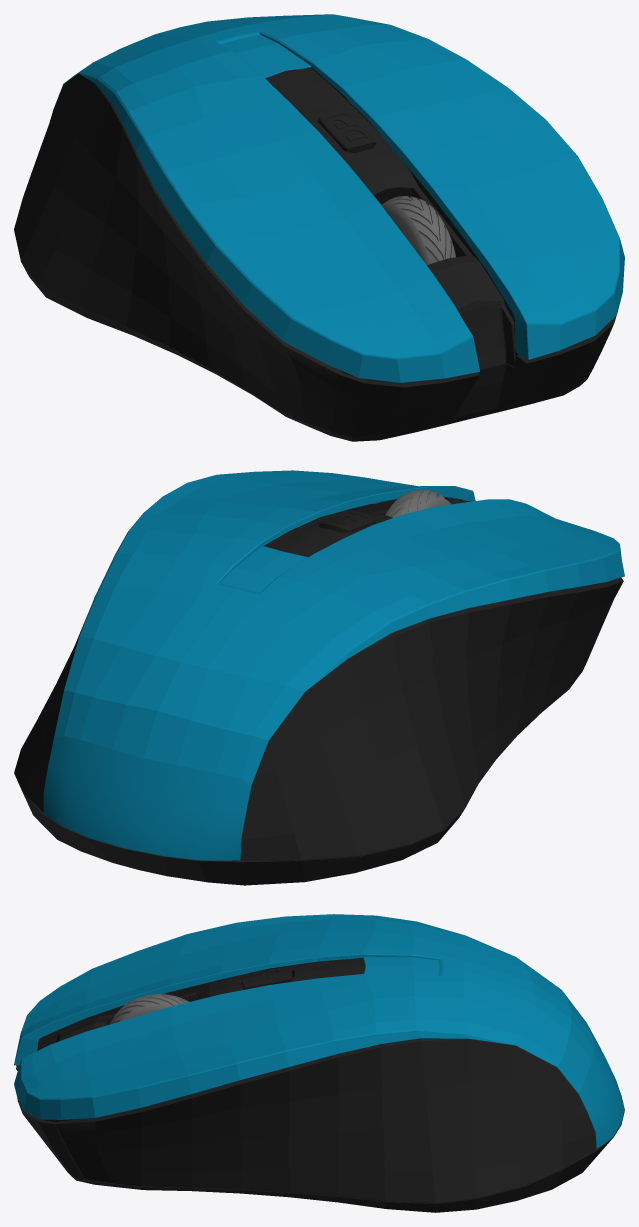
The model's file is MOUSE-Two-146-82-38.glb.
3 renders of one model, top to bottom at view 1: azimuth 30°, elevation 25°; view 2: azimuth 150°, elevation 25°; view 3: azimuth 270°, elevation 25°, orthographic. The views are drawn at different scales.
Parts seen in each view (by area): view 1: Canyon_CNE_CMSW1_Blue_Top_Buttons_part1, Canyon_CNE_CMSW1_Blue_Side, Canyon_CNE_CMSW1_Blue_Bottom_part1, Canyon_CNE_CMSW1_Blue_Top_Panel, Canyon_CNE_CMSW1_Blue_Top_Wheel, Canyon_CNE_CMSW1_Blue_Top_Buttons_part2, Canyon_CNE_CMSW1_Blue_Backfon; view 2: Canyon_CNE_CMSW1_Blue_Top_Buttons_part1, Canyon_CNE_CMSW1_Blue_Side, Canyon_CNE_CMSW1_Blue_Bottom_part1, Canyon_CNE_CMSW1_Blue_Top_Panel, Canyon_CNE_CMSW1_Blue_Top_Wheel, Canyon_CNE_CMSW1_Blue_Top_Buttons_part2; view 3: Canyon_CNE_CMSW1_Blue_Top_Buttons_part1, Canyon_CNE_CMSW1_Blue_Side, Canyon_CNE_CMSW1_Blue_Bottom_part1, Canyon_CNE_CMSW1_Blue_Top_Panel, Canyon_CNE_CMSW1_Blue_Top_Wheel, Canyon_CNE_CMSW1_Blue_Backfon, Canyon_CNE_CMSW1_Blue_Top_Buttons_part2.
Boxes of the visible parts, <box> form: Canyon_CNE_CMSW1_Blue_Top_Buttons_part1: <box>50,14,624,382</box>; Canyon_CNE_CMSW1_Blue_Side: <box>14,73,344,432</box>; Canyon_CNE_CMSW1_Blue_Bottom_part1: <box>14,230,616,441</box>; Canyon_CNE_CMSW1_Blue_Top_Panel: <box>266,68,515,369</box>; Canyon_CNE_CMSW1_Blue_Top_Wheel: <box>381,196,455,265</box>; Canyon_CNE_CMSW1_Blue_Top_Buttons_part2: <box>318,109,374,153</box>; Canyon_CNE_CMSW1_Blue_Backfon: <box>265,67,519,382</box>; Canyon_CNE_CMSW1_Blue_Top_Buttons_part1: <box>43,470,624,860</box>; Canyon_CNE_CMSW1_Blue_Side: <box>14,577,623,860</box>; Canyon_CNE_CMSW1_Blue_Bottom_part1: <box>14,689,569,885</box>; Canyon_CNE_CMSW1_Blue_Top_Panel: <box>265,499,470,557</box>; Canyon_CNE_CMSW1_Blue_Top_Wheel: <box>385,489,451,517</box>; Canyon_CNE_CMSW1_Blue_Top_Buttons_part2: <box>318,512,374,533</box>; Canyon_CNE_CMSW1_Blue_Top_Buttons_part1: <box>14,914,624,1148</box>; Canyon_CNE_CMSW1_Blue_Side: <box>55,989,596,1203</box>; Canyon_CNE_CMSW1_Blue_Bottom_part1: <box>16,1031,624,1212</box>; Canyon_CNE_CMSW1_Blue_Top_Panel: <box>41,958,365,1048</box>; Canyon_CNE_CMSW1_Blue_Top_Wheel: <box>110,994,188,1024</box>; Canyon_CNE_CMSW1_Blue_Backfon: <box>37,958,420,1122</box>; Canyon_CNE_CMSW1_Blue_Top_Buttons_part2: <box>242,967,293,989</box>.
Bounding box in the file's own units: 0.0903 × 0.0467 × 0.1469.
